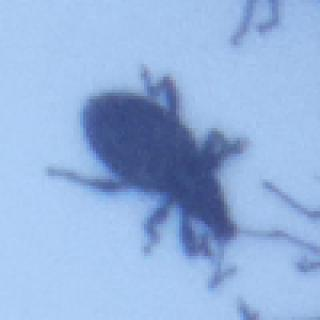bvw: (46, 62, 316, 290)
